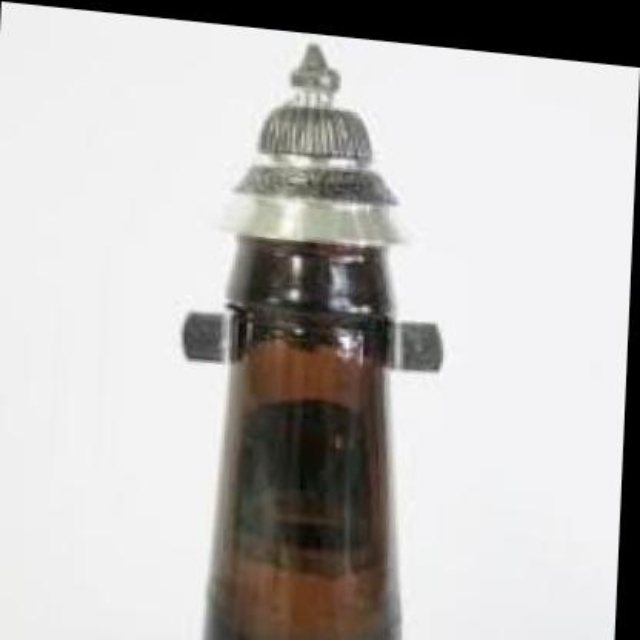trash: (206, 45, 397, 638)
